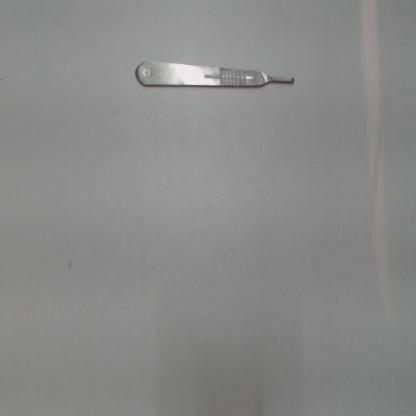No.3 BP Handle: (134, 56, 306, 100)
